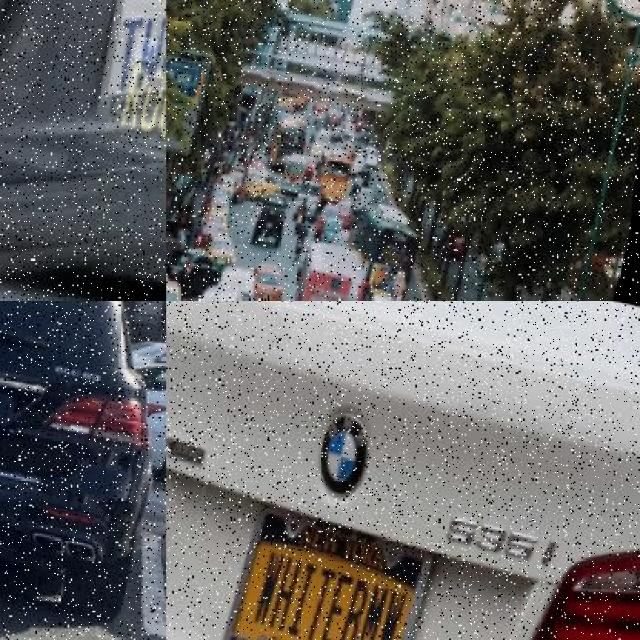licenseplate: (229, 497, 441, 640)
